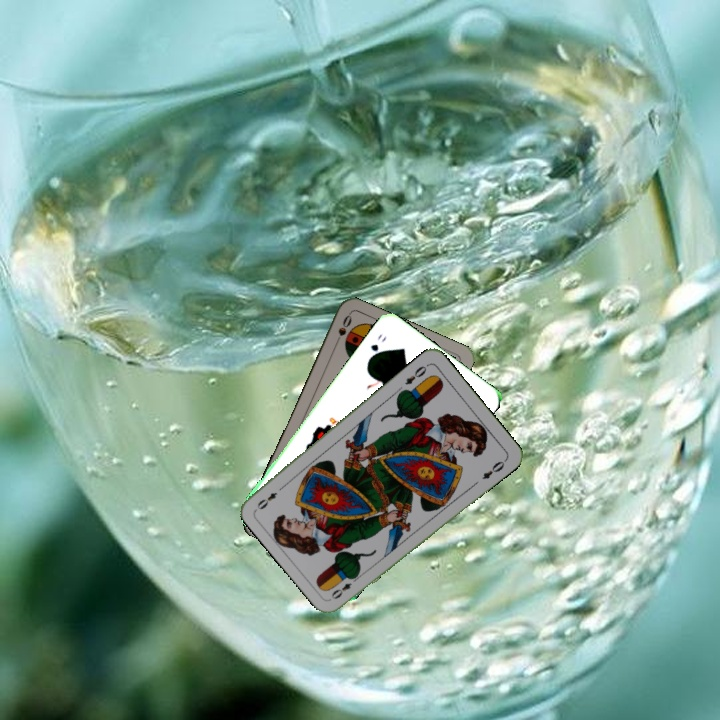EO: (327, 571, 362, 602), (401, 360, 431, 387)
GO: (365, 330, 389, 363)
SO: (330, 311, 354, 349)
